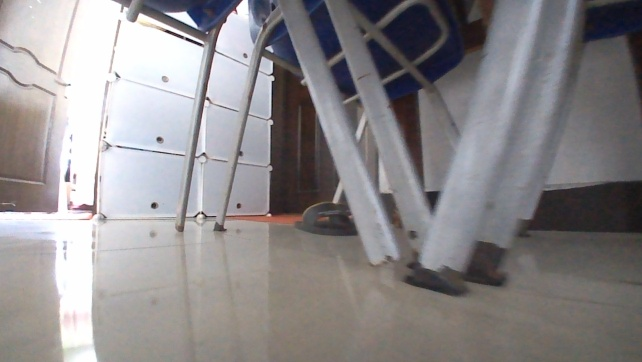blanket: (231, 208, 303, 229)
slipper: (290, 199, 357, 238)
